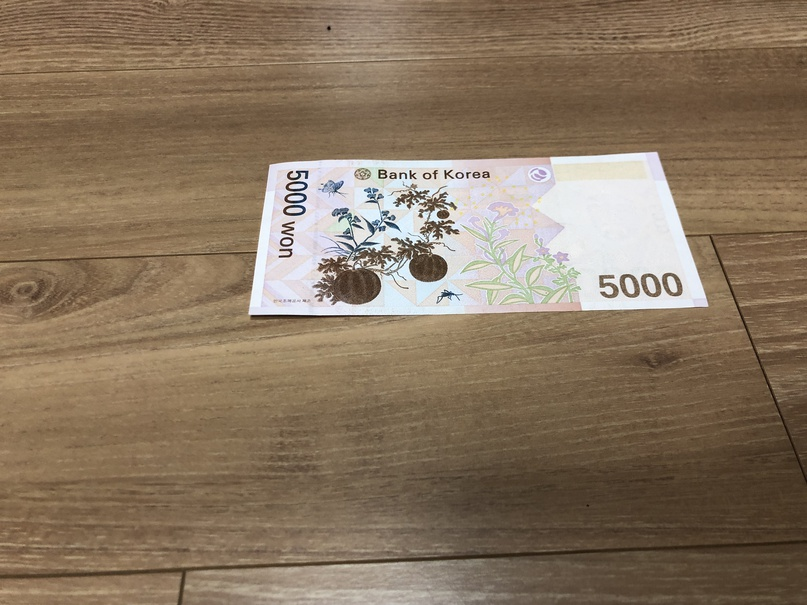5000won: (248, 150, 710, 318)
